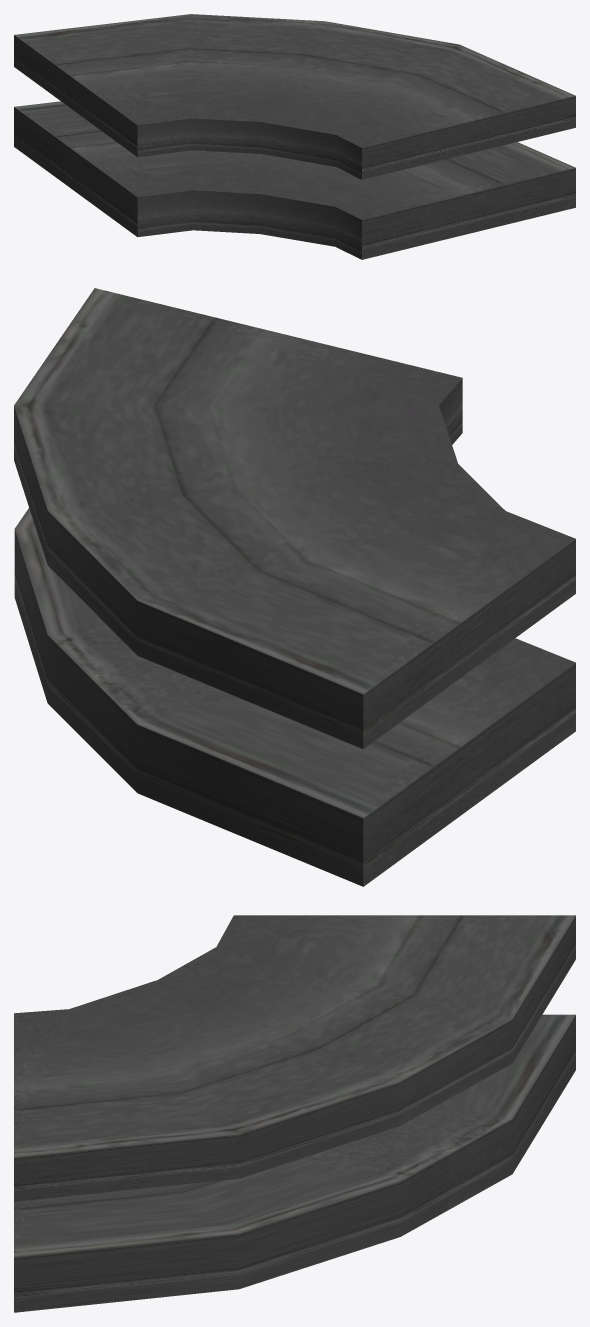
Rendered from p6_wire_trellis_wire_90_bend_2_lod2.glb.
The picture shows the model from 3 angles, top to bottom: view 1: azimuth 30°, elevation 25°; view 2: azimuth 150°, elevation 25°; view 3: azimuth 270°, elevation 25°; orthographic projection. The views are drawn at different scales.
Parts seen in each view (by area): view 1: surf0; view 2: surf0; view 3: surf0.
Part boxes in pixels (x1,y1,x2,y2): surf0: (14, 14, 575, 259); surf0: (14, 288, 575, 886); surf0: (14, 915, 575, 1312).
Bounding box in the file's own units: 47 × 14 × 46.
